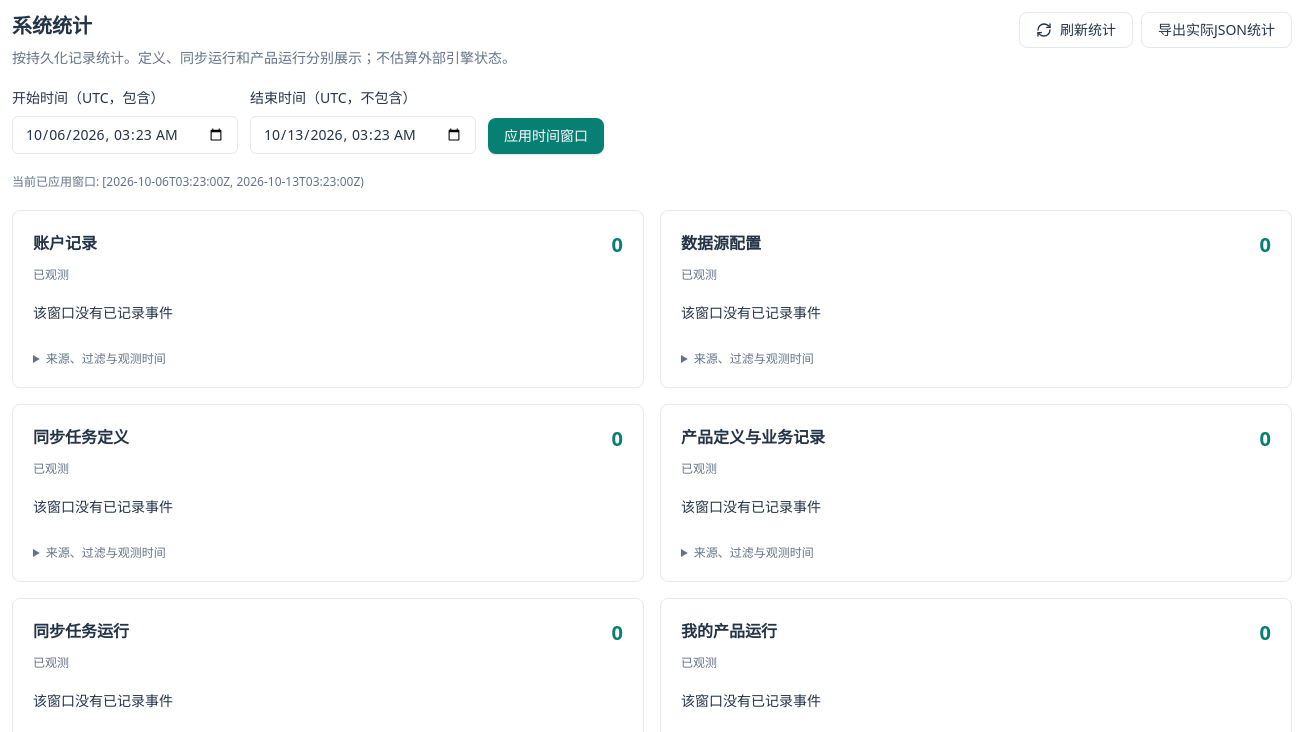
it: Persisted statistics and observed scope › rejects an invalid time window before sending another query
Expected: the heading "账户记录" is shown, x1=33 y1=231 x2=97 y2=259
Replace the text in the field labelled "开始时间（UTC，包含）" with "2026-10-10T00:00" at [125, 135], box x1=12 y1=116 x2=238 y2=154
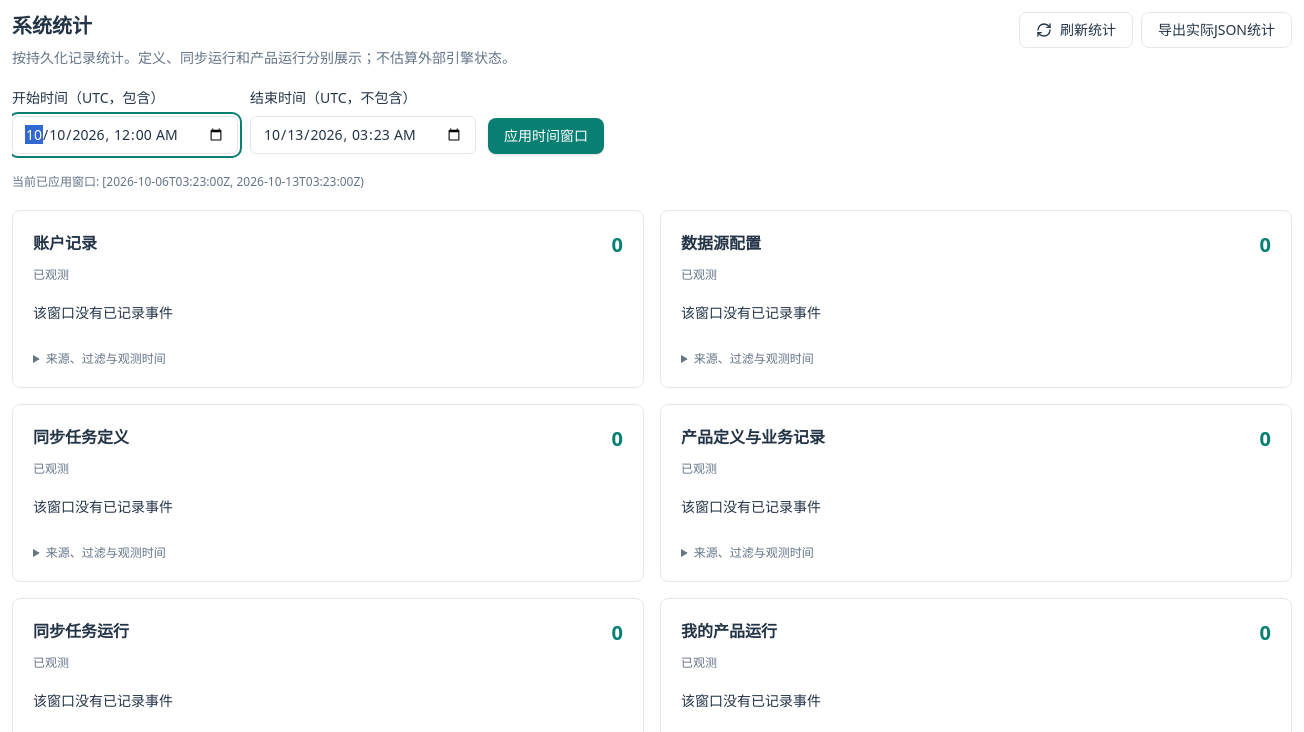
Replace the text in the field labelled "结束时间（UTC，不包含）" with "2026-10-09T00:00" at [363, 135], box x1=250 y1=116 x2=476 y2=154
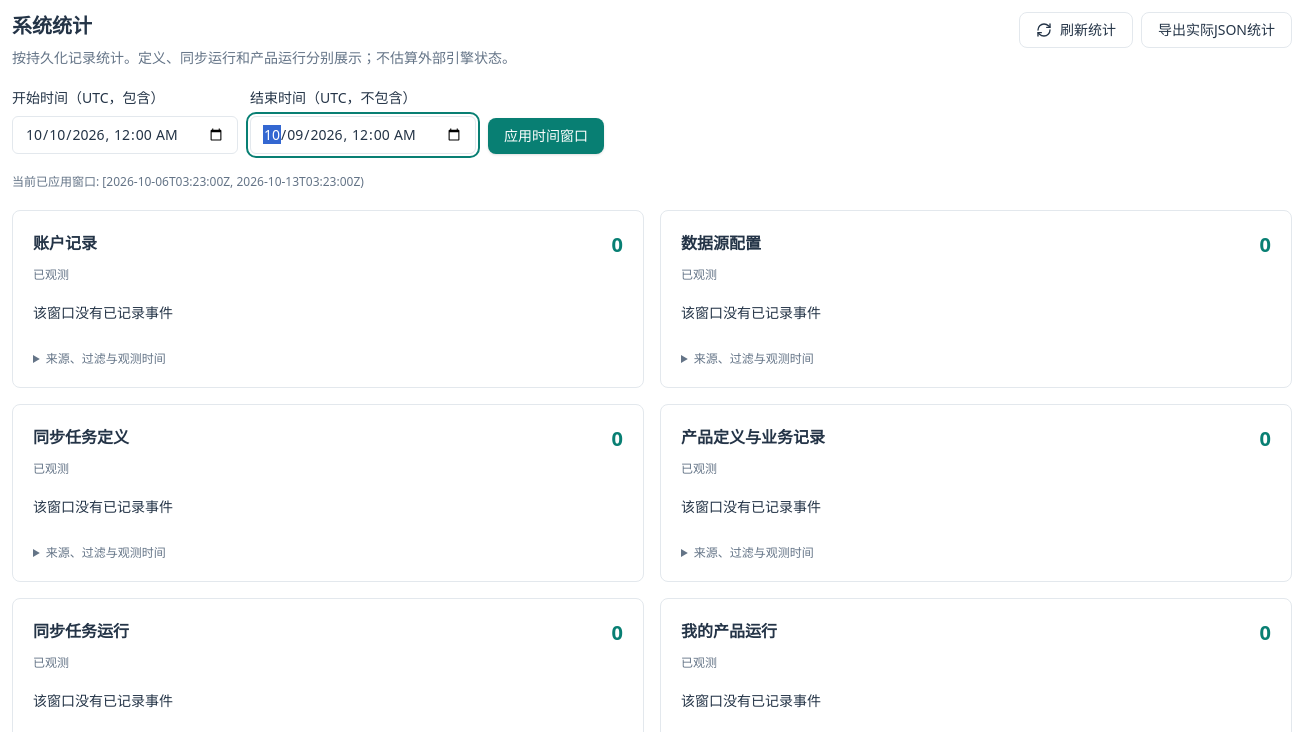
Click the button "应用时间窗口" at [546, 136], box x1=488 y1=118 x2=604 y2=154
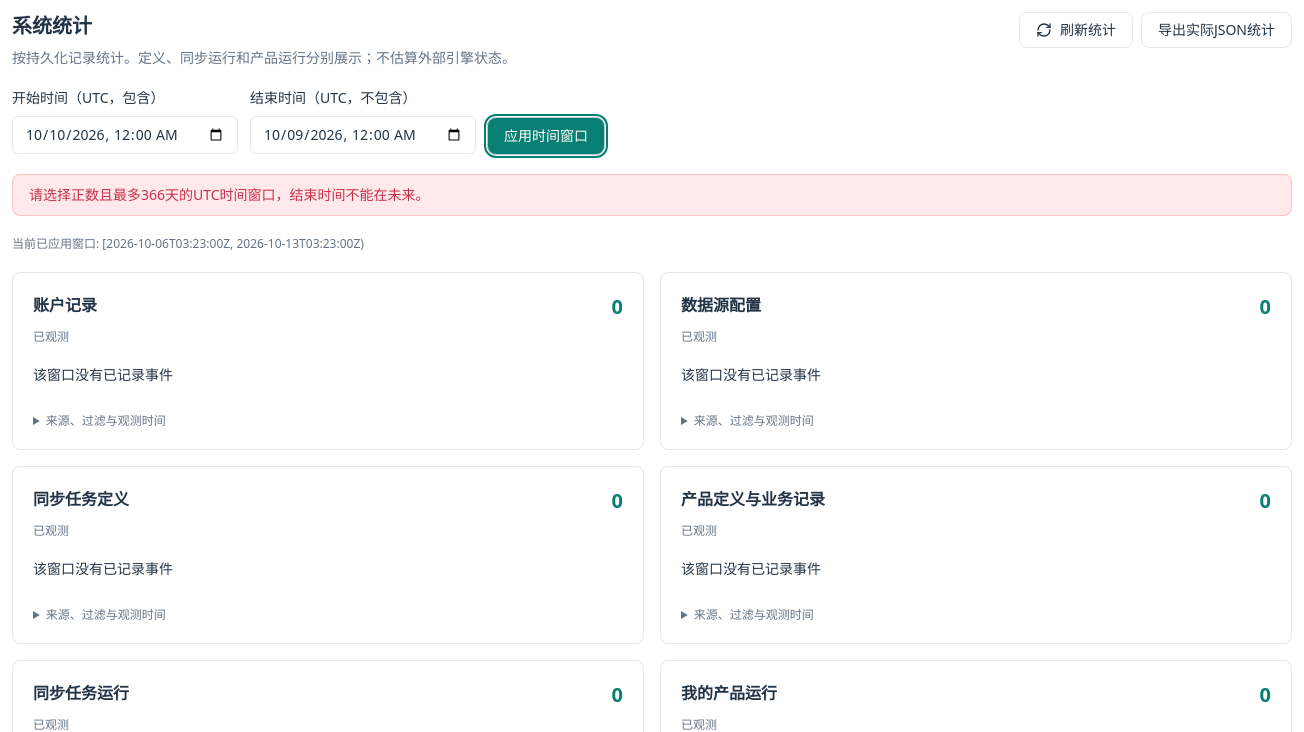
Now the text "请选择正数且最多366天的UTC时间窗口，结束时间不能在未来。" is shown, box x1=29 y1=185 x2=430 y2=204
